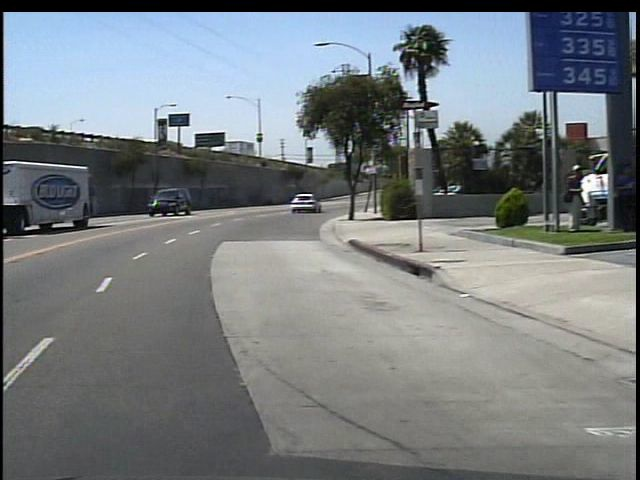person: (554, 161, 581, 235)
